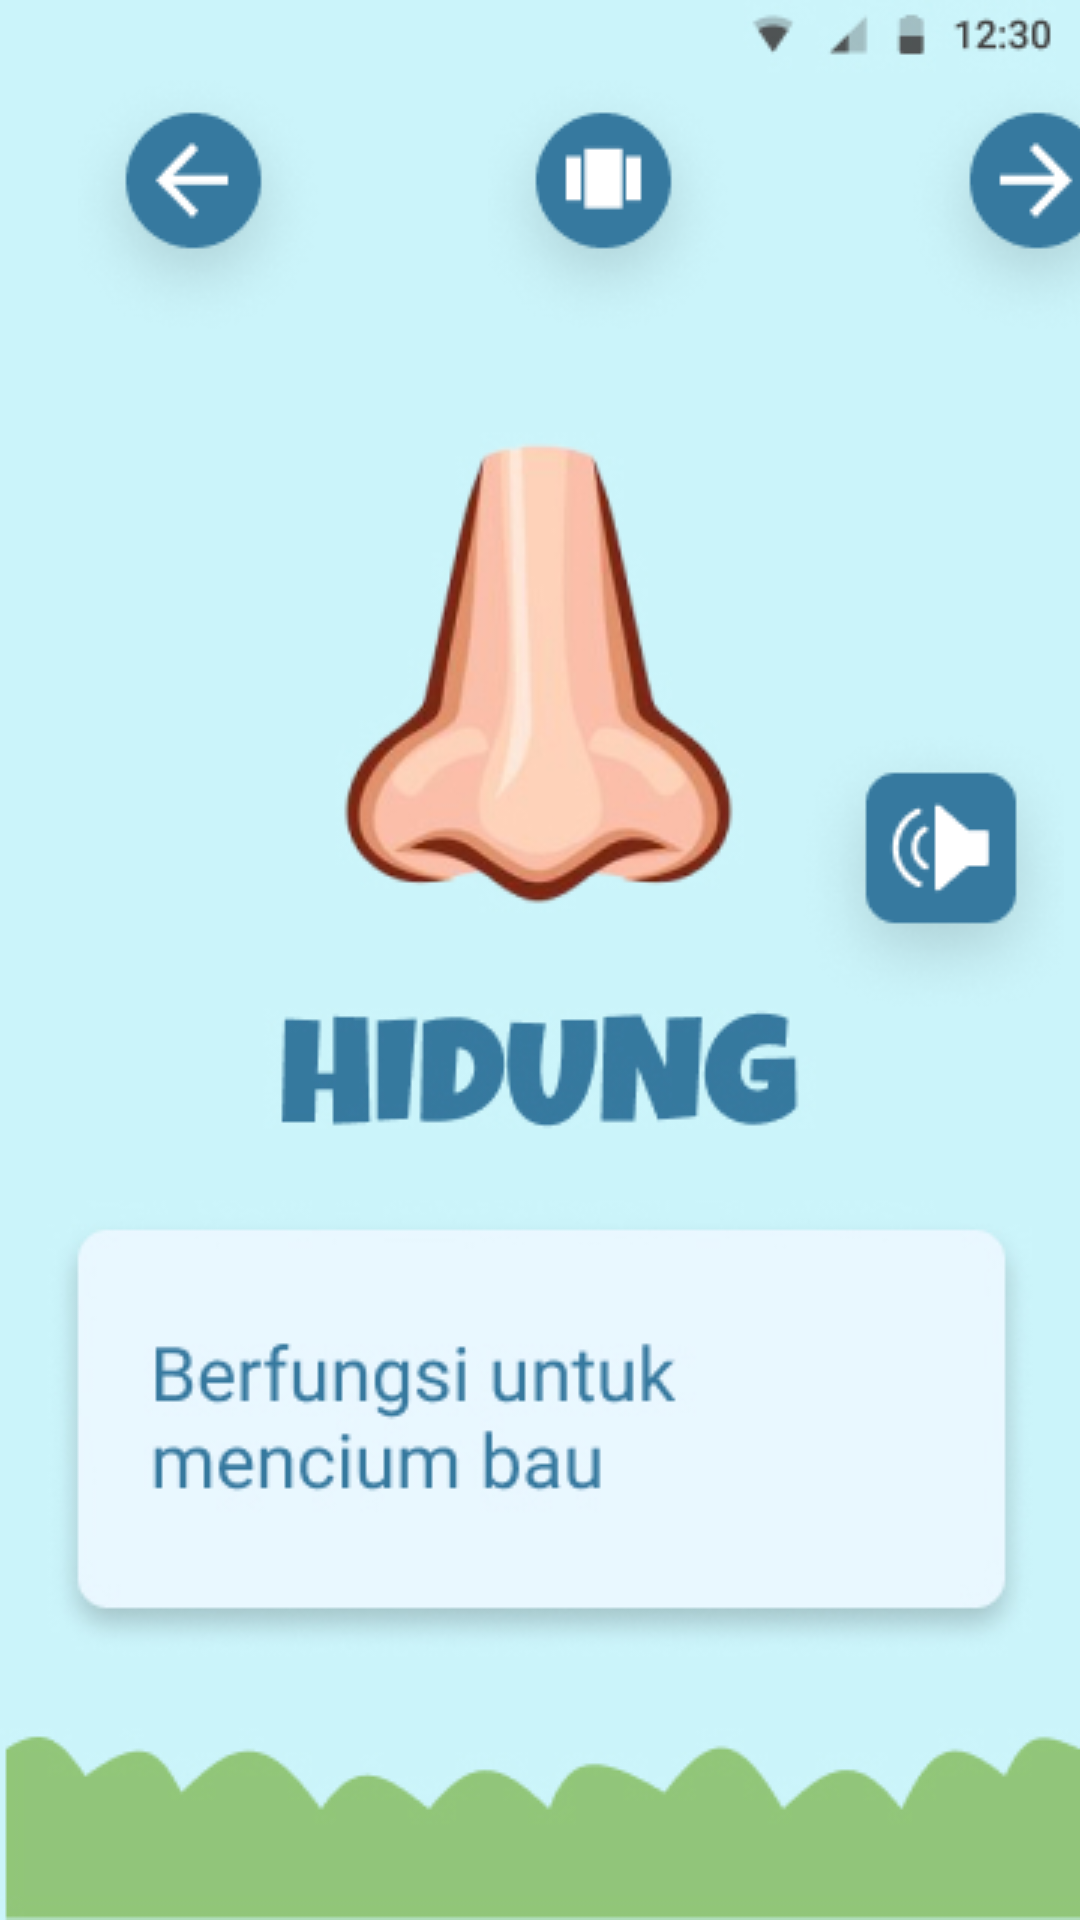

Screen size 1080 x 1920. Icon name, then its center in pixels as point (x, y):
audio: point (941, 853)
back: point (193, 182)
stage: point (603, 183)
